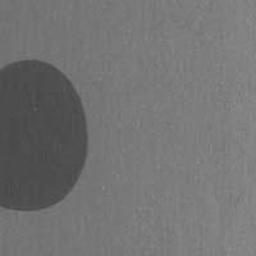Oil spot: (0, 56, 90, 212)
